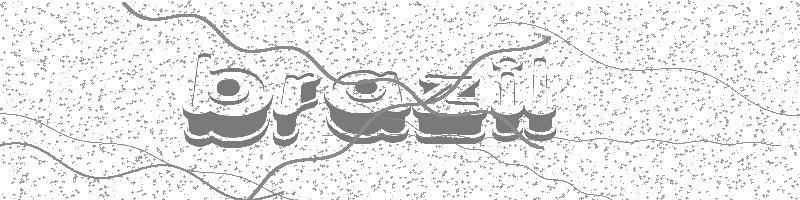a: (323, 68, 411, 144)
b: (180, 50, 276, 150)
i: (491, 57, 524, 142)
l: (524, 56, 559, 144)
r: (272, 69, 322, 148)
z: (412, 73, 489, 147)
